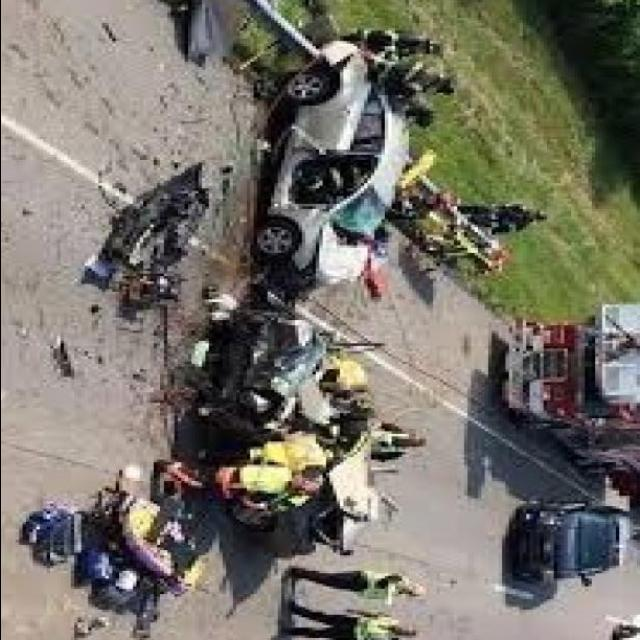accident: (159, 46, 461, 558)
